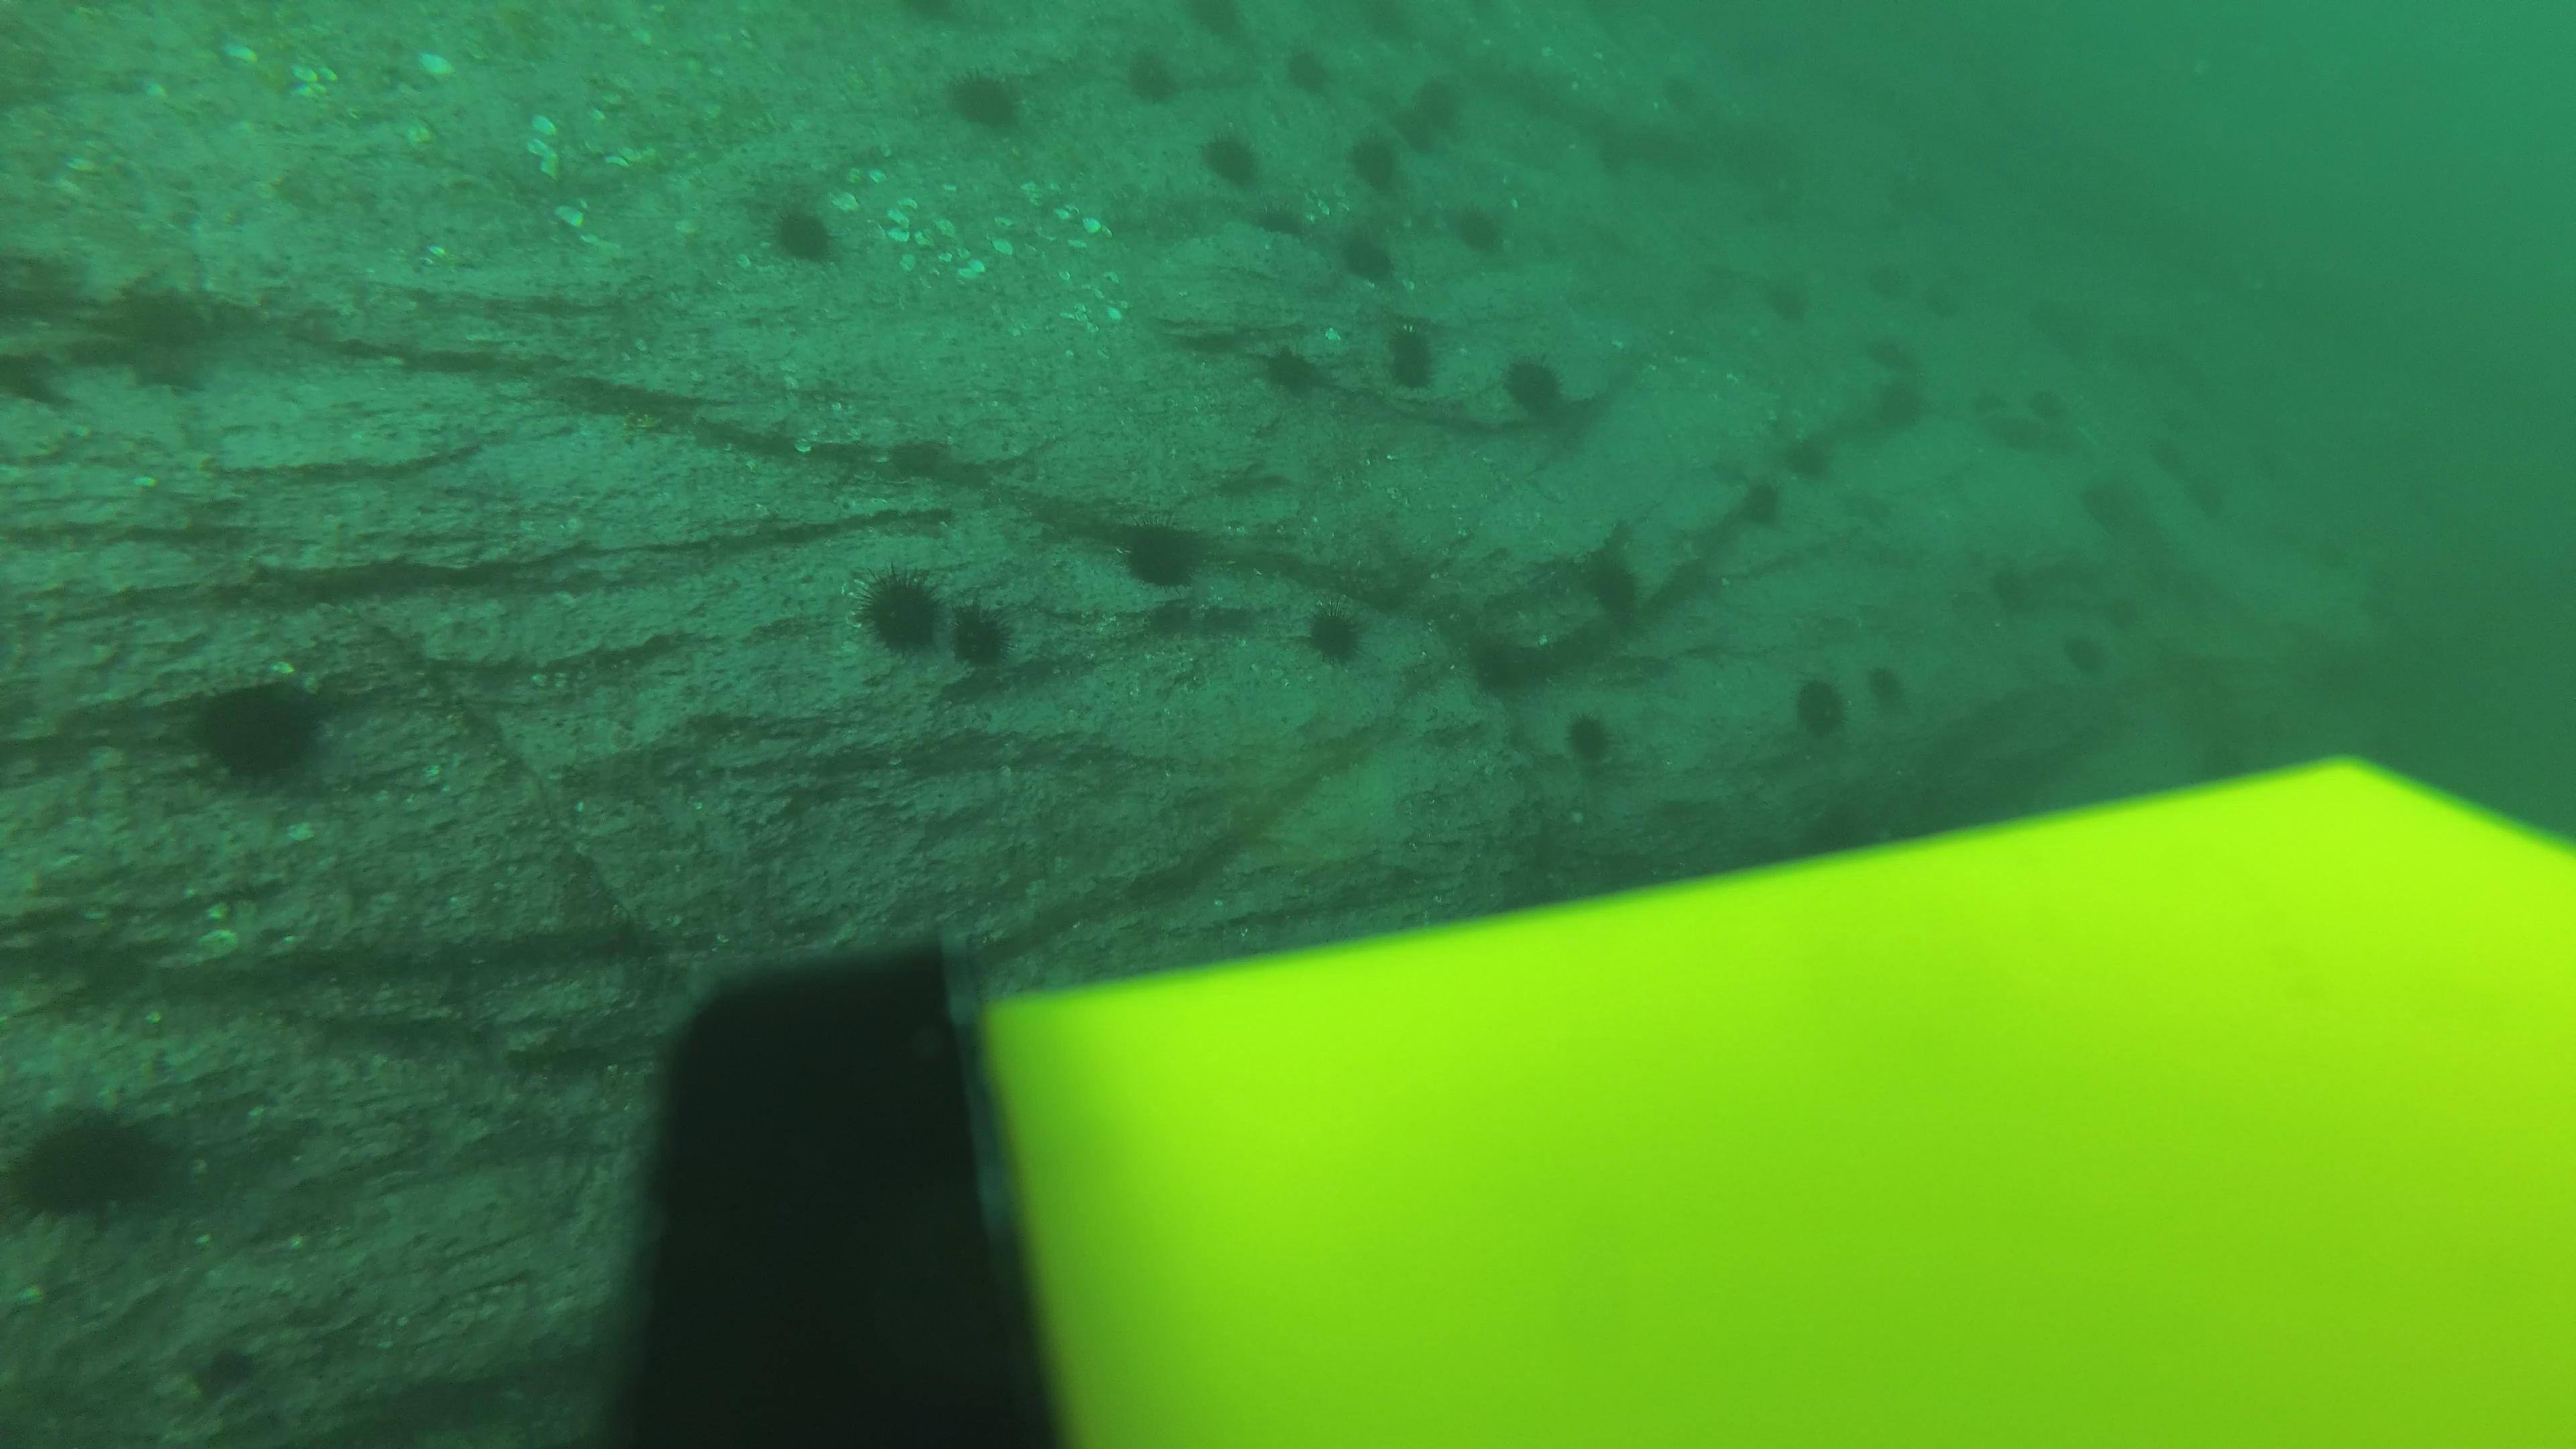urchin: (4, 1092, 198, 1219), (179, 674, 338, 787), (855, 566, 952, 655), (943, 65, 1042, 152), (1113, 511, 1207, 600), (1458, 630, 1548, 718), (757, 191, 846, 276), (936, 602, 1026, 676), (1493, 350, 1580, 426), (1580, 557, 1658, 639), (1442, 196, 1520, 269), (1787, 679, 1859, 757), (1111, 48, 1189, 117), (2035, 617, 2112, 683), (1734, 458, 1799, 534), (1369, 322, 1440, 391), (1299, 605, 1369, 674), (1851, 655, 1916, 729), (2077, 464, 2151, 529), (1759, 264, 1824, 334), (1350, 129, 1417, 196), (1555, 713, 1624, 778), (1399, 81, 1470, 145), (1196, 136, 1263, 200), (1261, 343, 1325, 410), (1286, 46, 1350, 111), (1872, 373, 1937, 437), (1782, 414, 1842, 483), (1341, 223, 1407, 283), (1858, 333, 1913, 384)
